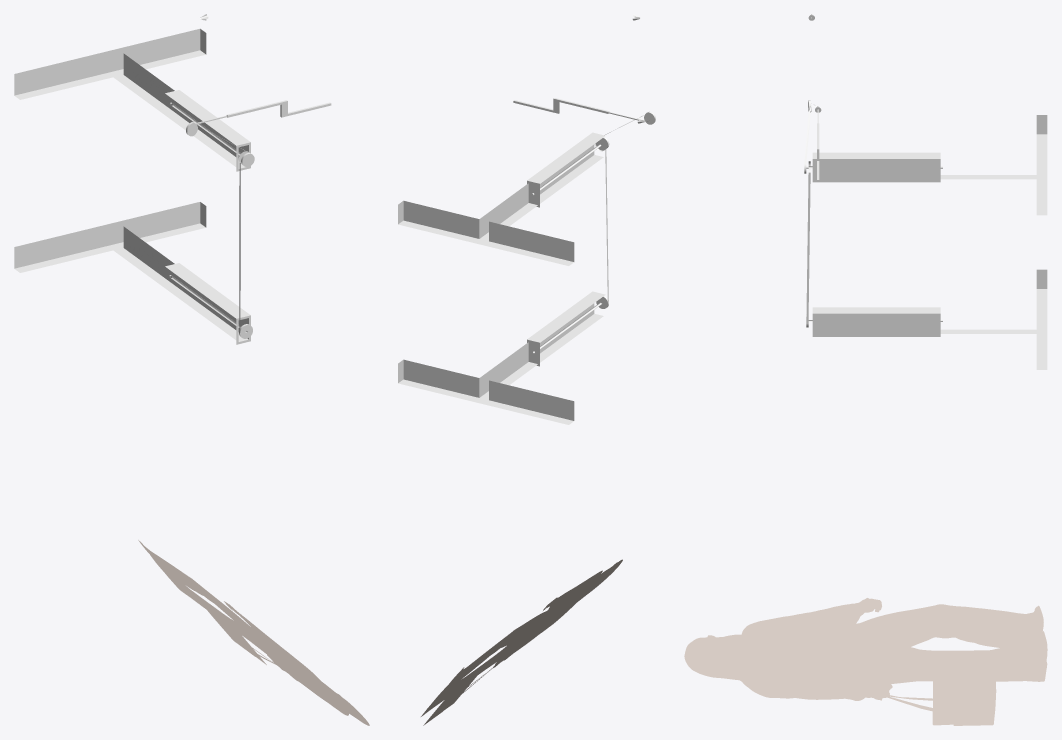
3 views of the same model, side by side, from view 1: azimuth 30°, elevation 25°; view 2: azimuth 150°, elevation 25°; view 3: azimuth 270°, elevation 25° (orthographic). The views are drawn at different scales.
Visible parts, largest first — view 1: SketchUp, Laura; view 2: SketchUp, Laura; view 3: Laura, SketchUp.
Boxes of the visible parts, <box> form: SketchUp: <box>14,14,331,344</box>; Laura: <box>138,540,369,725</box>; SketchUp: <box>398,14,655,424</box>; Laura: <box>421,559,622,725</box>; Laura: <box>684,598,1047,725</box>; SketchUp: <box>804,14,1047,369</box>.
Bounding box in the file's own units: 36.09 × 133 × 67.02.
